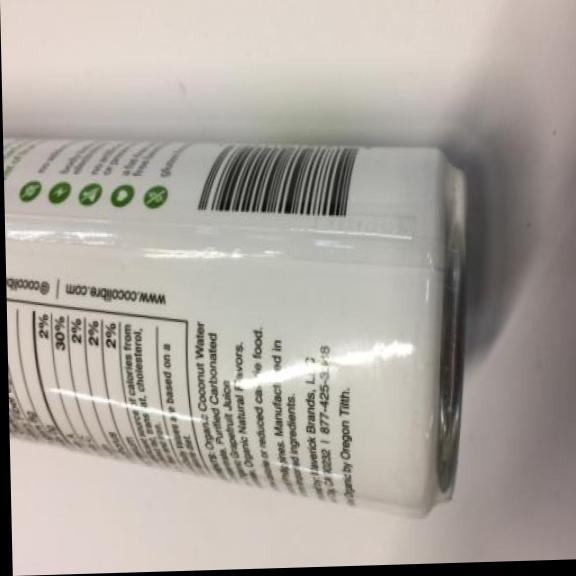Plastik: (3, 102, 482, 538)
